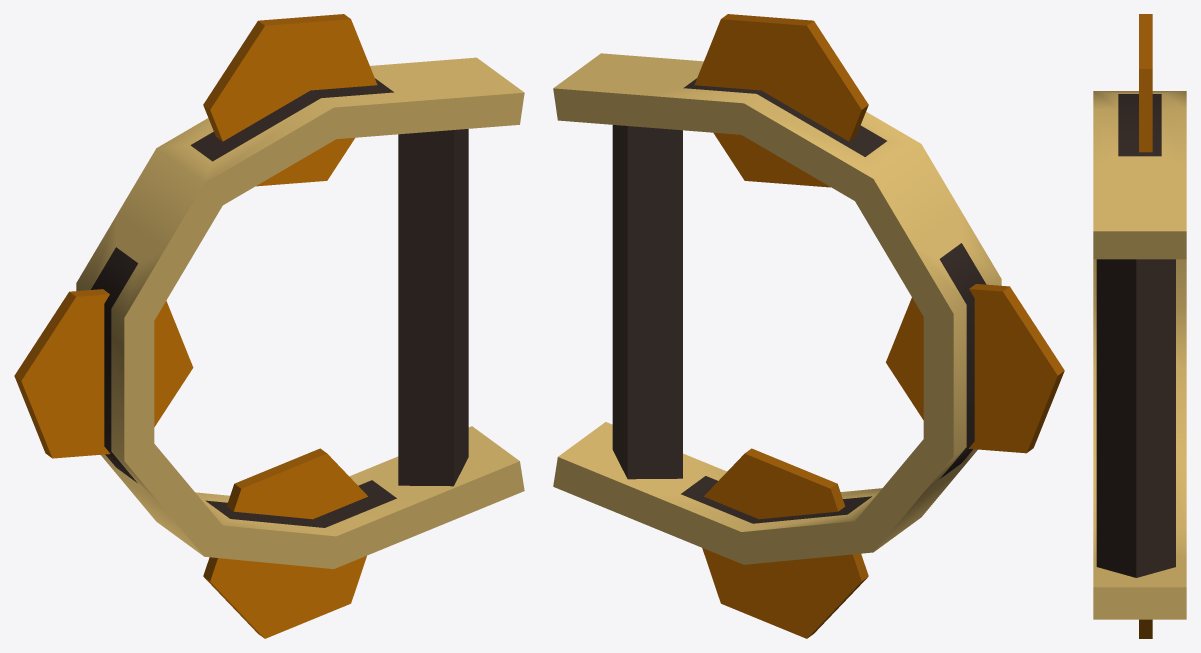
File: Tambourine Instrument.fbx
3 renders of one model, left to right at view 1: azimuth 30°, elevation 25°; view 2: azimuth 150°, elevation 25°; view 3: azimuth 270°, elevation 25°, orthographic. The views are drawn at different scales.
Visible parts, largest first — view 1: Tambourine Instrument; view 2: Tambourine Instrument; view 3: Tambourine Instrument.
Part boxes in pixels (<box>): Tambourine Instrument: <box>14,14,524,638</box>; Tambourine Instrument: <box>553,14,1064,638</box>; Tambourine Instrument: <box>1093,14,1186,638</box>.
Size of the model in its own units: 0.299 by 0.3623 by 0.0513.
